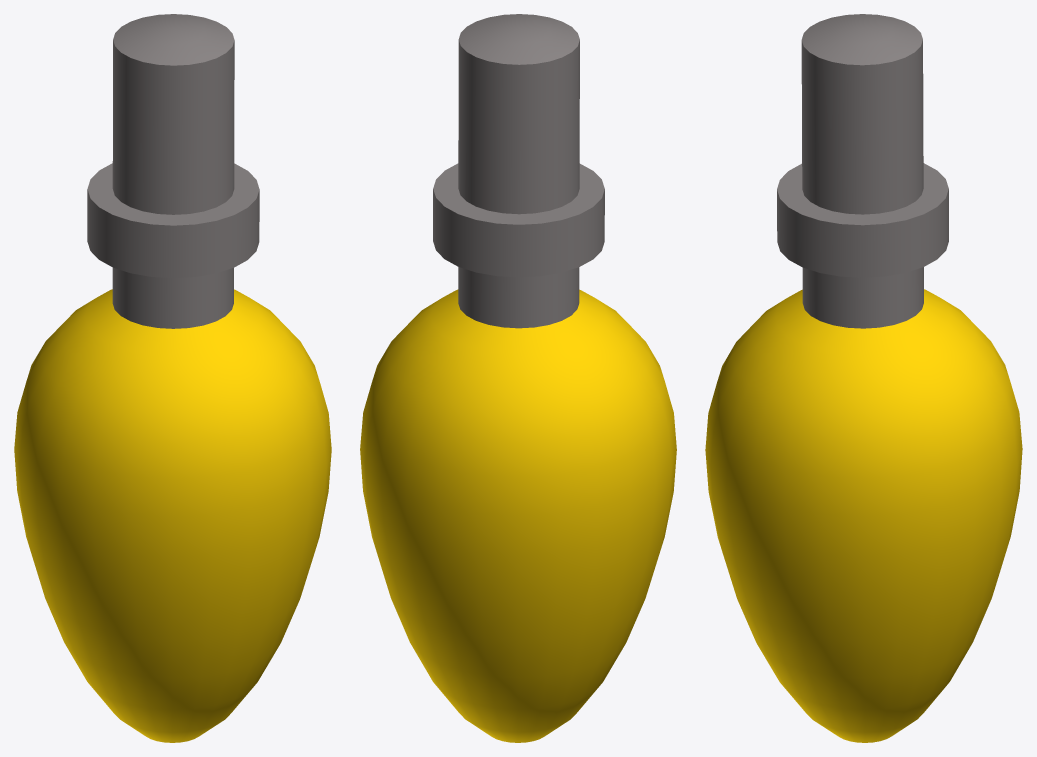
File: bulb.fbx
The picture shows the model from 3 angles, left to right: view 1: azimuth 30°, elevation 25°; view 2: azimuth 150°, elevation 25°; view 3: azimuth 270°, elevation 25°; orthographic projection.
Visible parts, largest first — view 1: Lighbulb; view 2: Lighbulb; view 3: Lighbulb.
Boxes of the visible parts, x1,y1,x2,y2 form: Lighbulb: (14, 14, 331, 742); Lighbulb: (360, 14, 676, 742); Lighbulb: (705, 14, 1022, 742).
Bounding box in the file's own units: 29.7 × 73.31 × 29.7.
